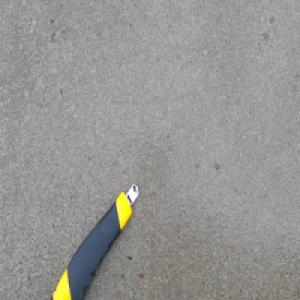Cutter: (48, 178, 139, 300)
